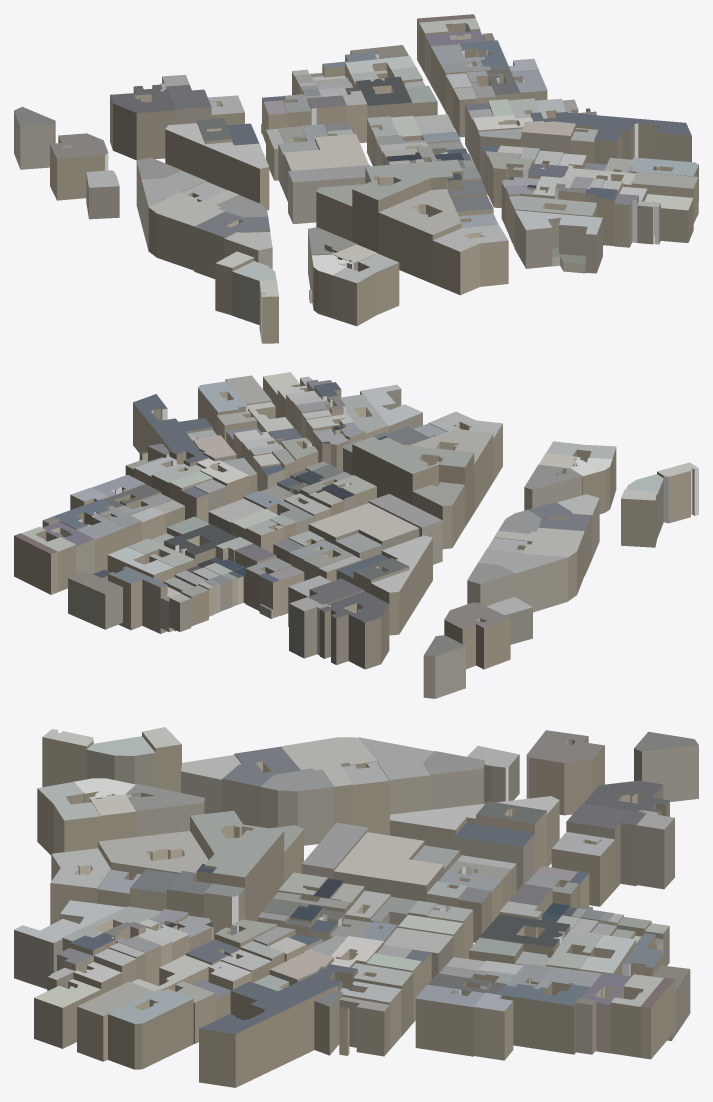
3 renders of one model, top to bottom at view 1: azimuth 30°, elevation 25°; view 2: azimuth 150°, elevation 25°; view 3: azimuth 270°, elevation 25°, orthographic. The views are drawn at different scales.
Parts seen in each view (by area): view 1: tuile; view 2: tuile; view 3: tuile.
Part boxes in pixels (bbox=[...]): tuile: bbox=[14, 14, 698, 343]; tuile: bbox=[14, 372, 698, 698]; tuile: bbox=[14, 727, 698, 1087].
Size of the model in its own units: 292 by 43.34 by 274.
